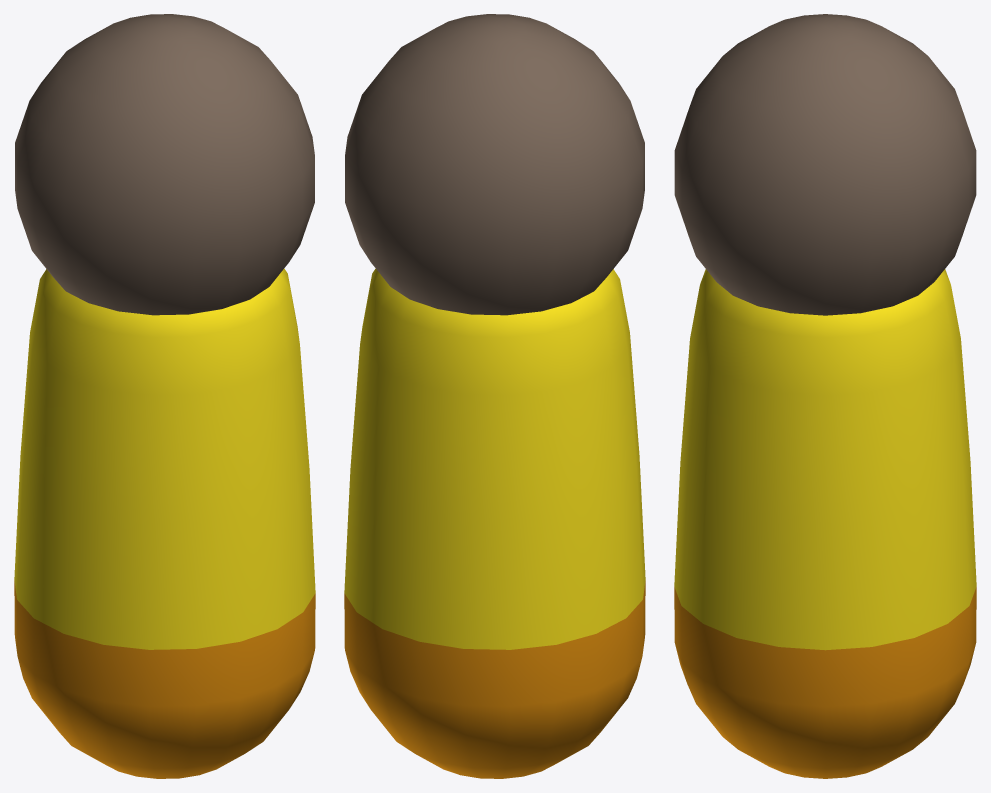
File: sari2.fbx
The picture shows the model from 3 angles, left to right: view 1: azimuth 30°, elevation 25°; view 2: azimuth 150°, elevation 25°; view 3: azimuth 270°, elevation 25°; orthographic projection.
Parts seen in each view (by area): view 1: sari2; view 2: sari2; view 3: sari2.
Part boxes in pixels (x1,y1,x2,y2): sari2: [14, 14, 315, 778]; sari2: [344, 14, 645, 778]; sari2: [674, 14, 976, 778].
Bounding box in the file's own units: 1.86 × 5.02 × 1.86.
